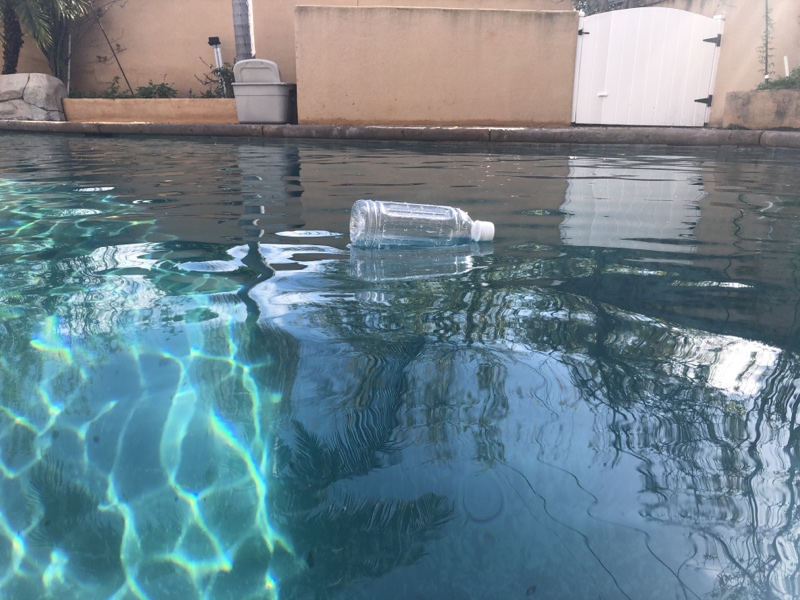Plastic Bottle: (346, 196, 497, 252)
